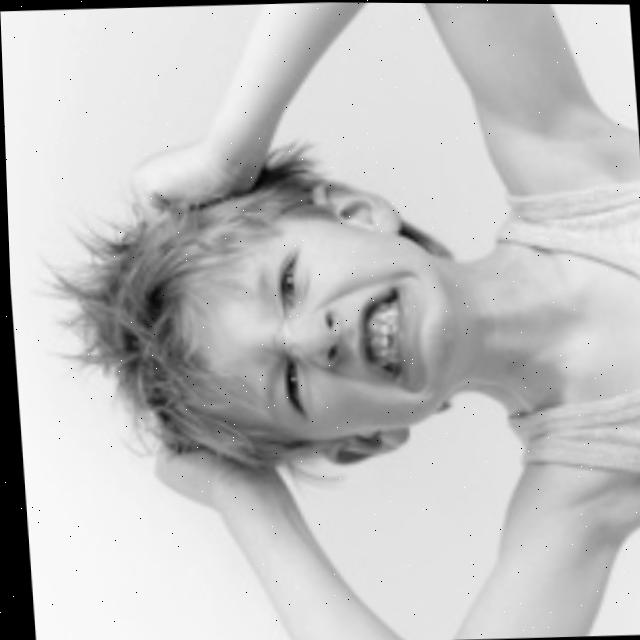angry: (67, 188, 518, 481)
